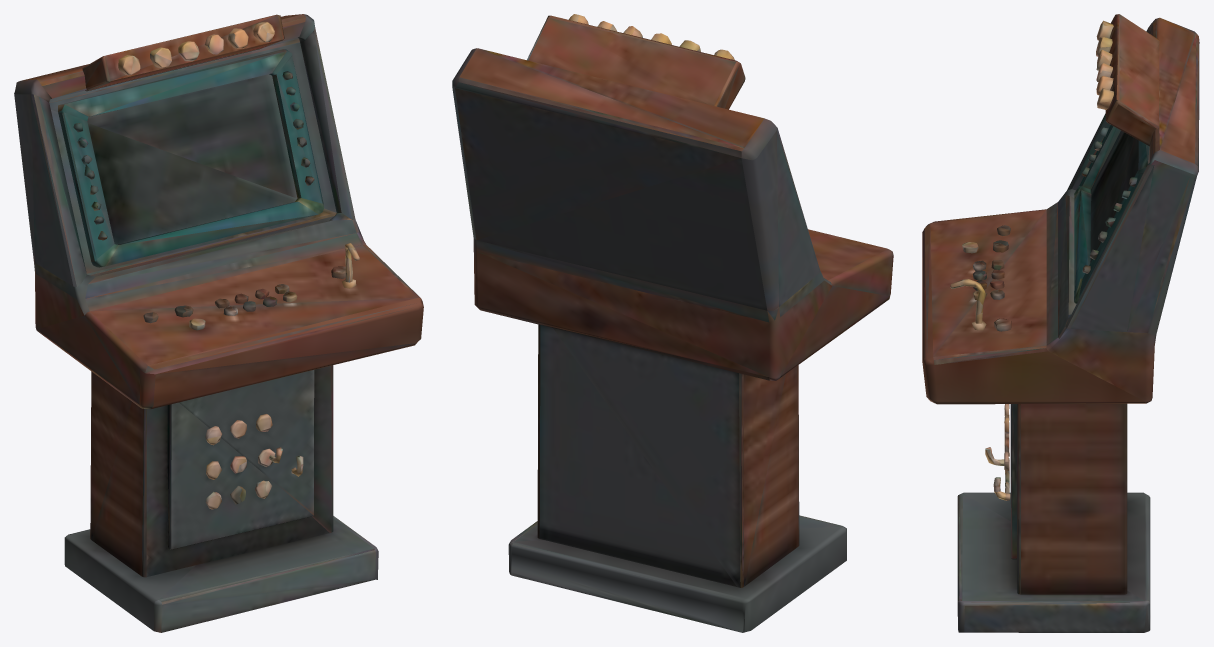
The model's file is sci-fi-console.lod1.glb.
3 renders of one model, left to right at view 1: azimuth 30°, elevation 25°; view 2: azimuth 150°, elevation 25°; view 3: azimuth 270°, elevation 25°, orthographic. The views are drawn at different scales.
Bounding box in the file's own units: 0.6329 × 1.1 × 0.5274.
Materials: 1 (1 with a texture image).
